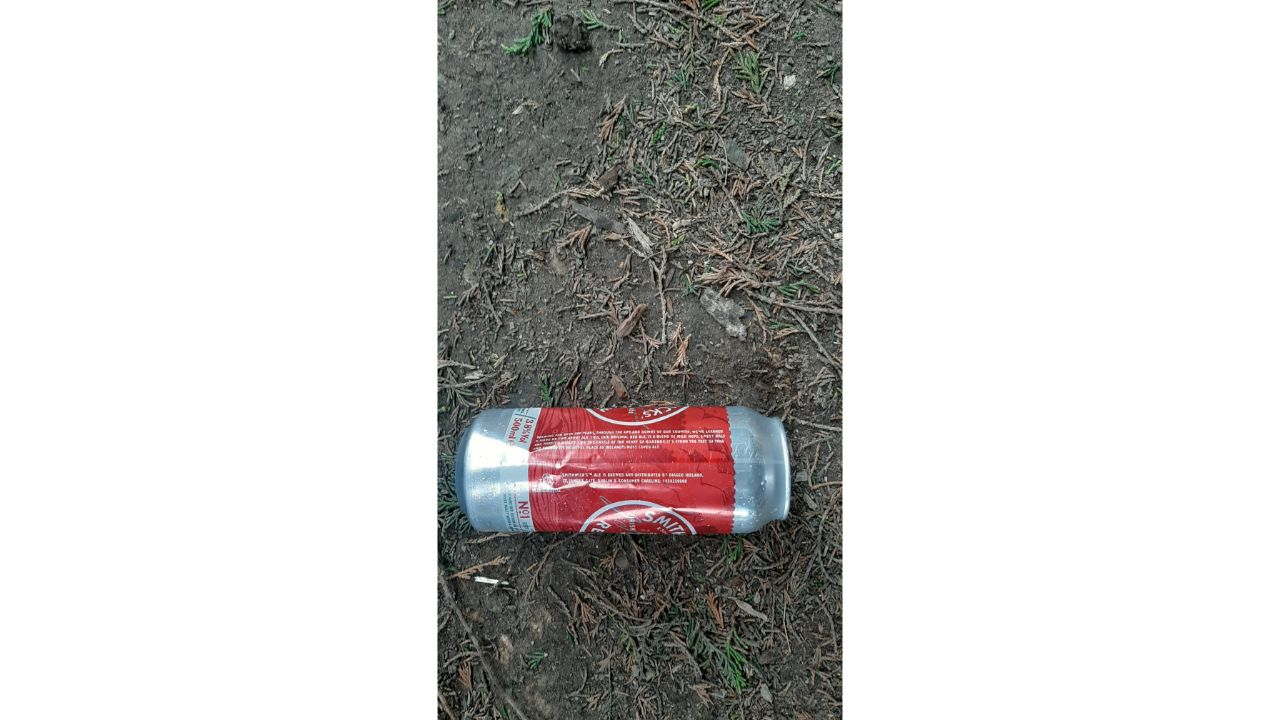Can: (454, 402, 795, 539)
